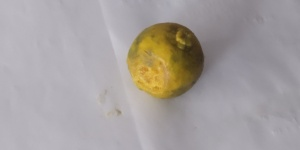BAD: (128, 23, 208, 96)
